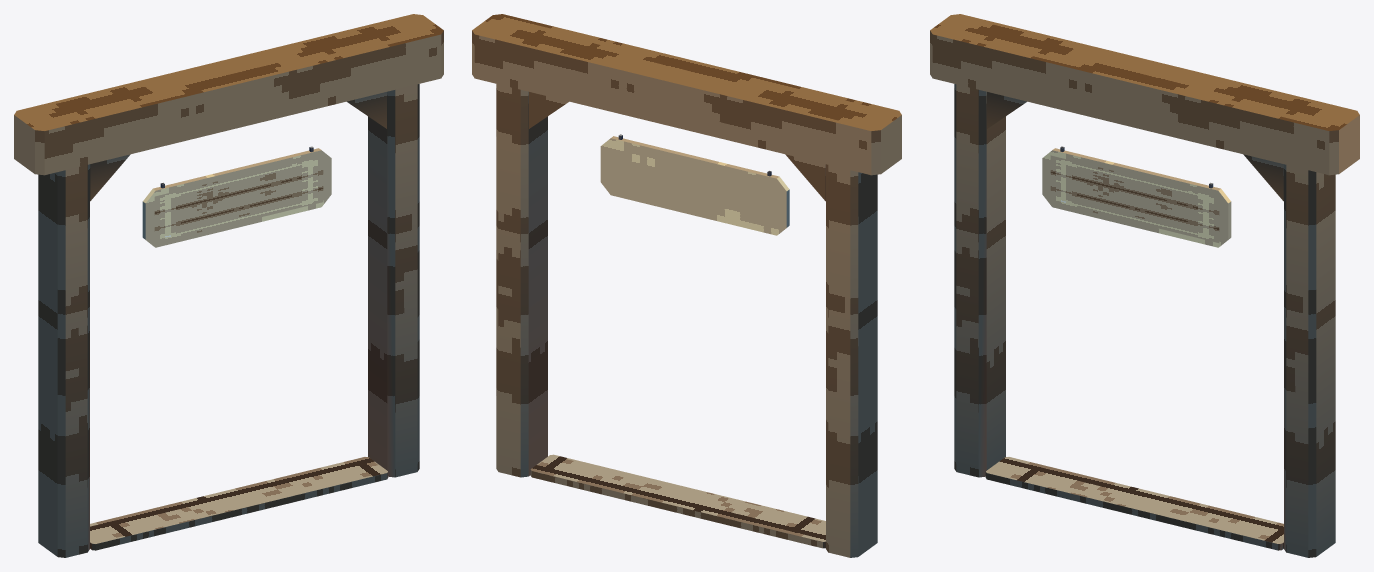
Rendered from wtown.doorway__gate.glb.
3 renders of one model, left to right at view 1: azimuth 30°, elevation 25°; view 2: azimuth 150°, elevation 25°; view 3: azimuth 330°, elevation 25°, orthographic.
Parts seen in each view (by area): view 1: kit_posts, kit_header, kit_sill, kit_card_panes, kit_sign, kit_corbels; view 2: kit_posts, kit_header, kit_sign, kit_sill, kit_corbels; view 3: kit_posts, kit_header, kit_sill, kit_card_panes, kit_sign, kit_corbels.
Boxes of the visible parts, <box> form: kit_posts: <box>38,84,419,557</box>; kit_header: <box>14,14,443,175</box>; kit_sill: <box>90,457,388,550</box>; kit_card_panes: <box>154,155,323,242</box>; kit_sign: <box>142,148,331,247</box>; kit_corbels: <box>90,92,386,201</box>; kit_posts: <box>496,84,877,557</box>; kit_header: <box>472,14,901,175</box>; kit_sign: <box>600,136,789,235</box>; kit_sill: <box>530,454,825,548</box>; kit_corbels: <box>529,92,825,201</box>; kit_posts: <box>954,84,1335,557</box>; kit_header: <box>930,14,1359,175</box>; kit_sill: <box>985,457,1283,550</box>; kit_card_panes: <box>1050,155,1219,242</box>; kit_sign: <box>1042,148,1231,247</box>; kit_corbels: <box>987,92,1283,201</box>.
Bounding box in the file's own units: 3.3 × 3.34 × 0.39.
Materials: 6 (6 with a texture image).
